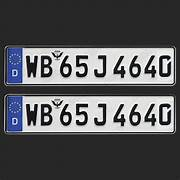number_plate: (6, 95, 175, 134)
